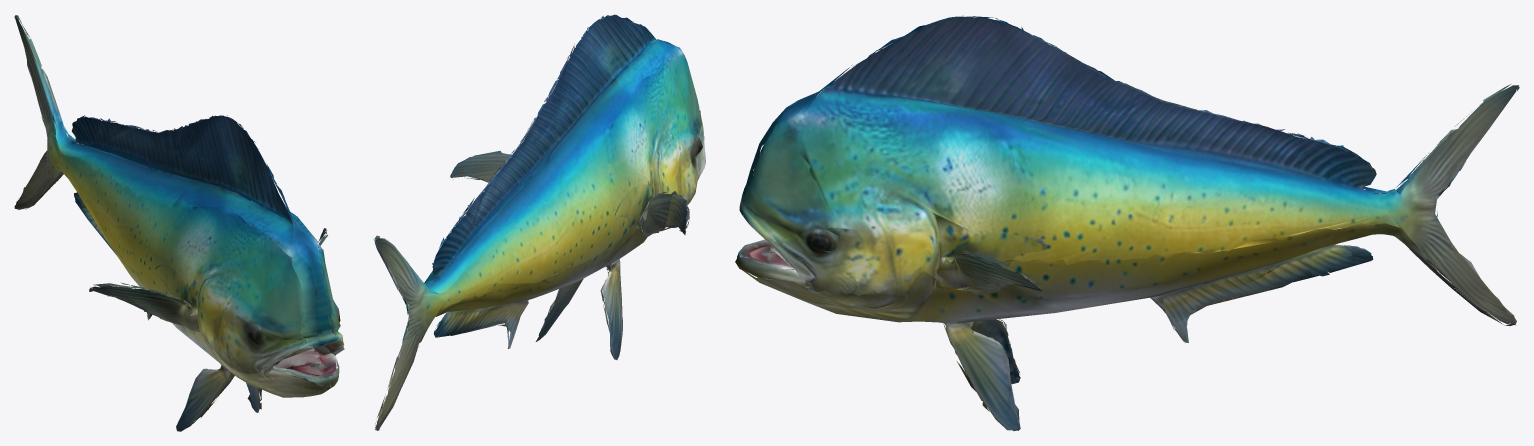
The model's file is mahi.glb.
The picture shows the model from 3 angles, left to right: view 1: azimuth 30°, elevation 25°; view 2: azimuth 150°, elevation 25°; view 3: azimuth 270°, elevation 25°; orthographic projection. The views are drawn at different scales.
Parts seen in each view (by area): view 1: mahi.001; view 2: mahi.001; view 3: mahi.001.
Part boxes in pixels (x1=…): mahi.001: x1=14, y1=15, x2=344, y2=431; mahi.001: x1=374, y1=14, x2=705, y2=430; mahi.001: x1=735, y1=15, x2=1519, y2=431.
Size of the model in its own units: 0.4356 by 0.5556 by 1.
Materials: 1 (1 with a texture image).
